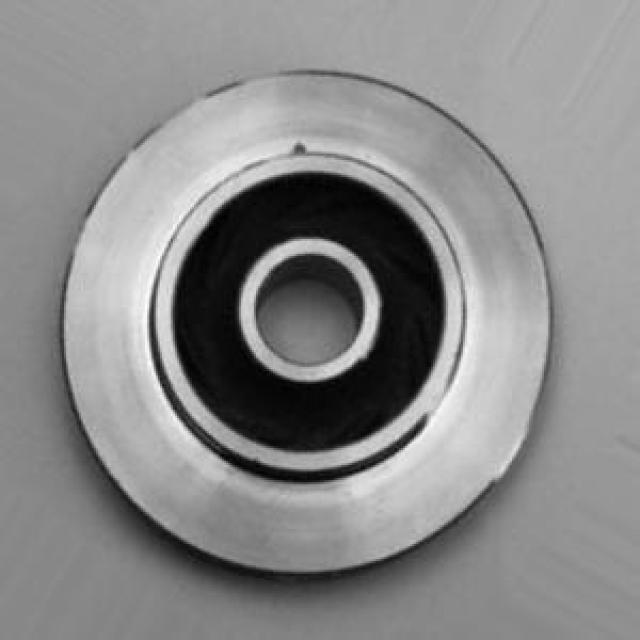Defect: (288, 138, 312, 160)
